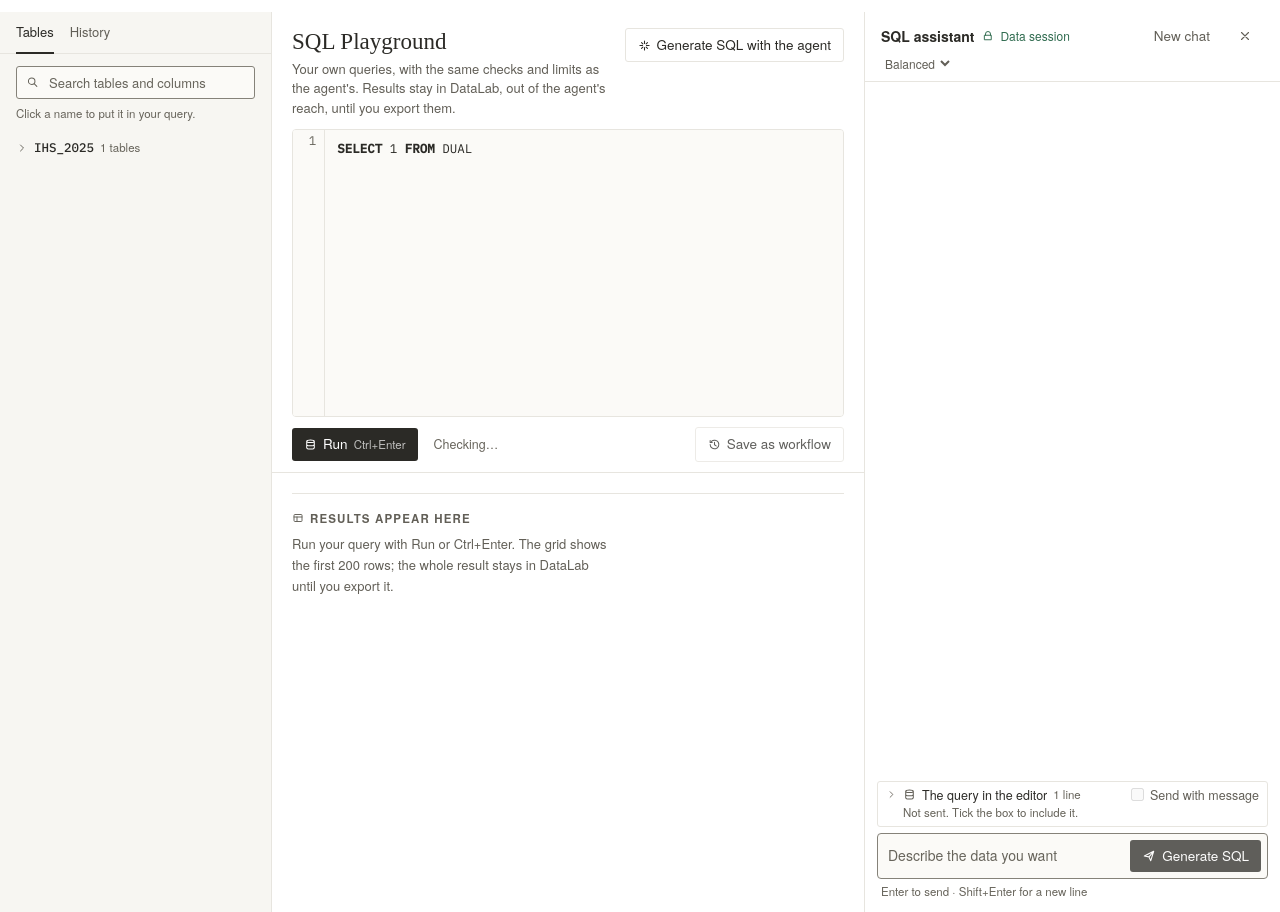
Test case: stops a running query
The image size is (1280, 912).
Click the button "Run Ctrl+Enter": (355, 444) [292,428,418,461]
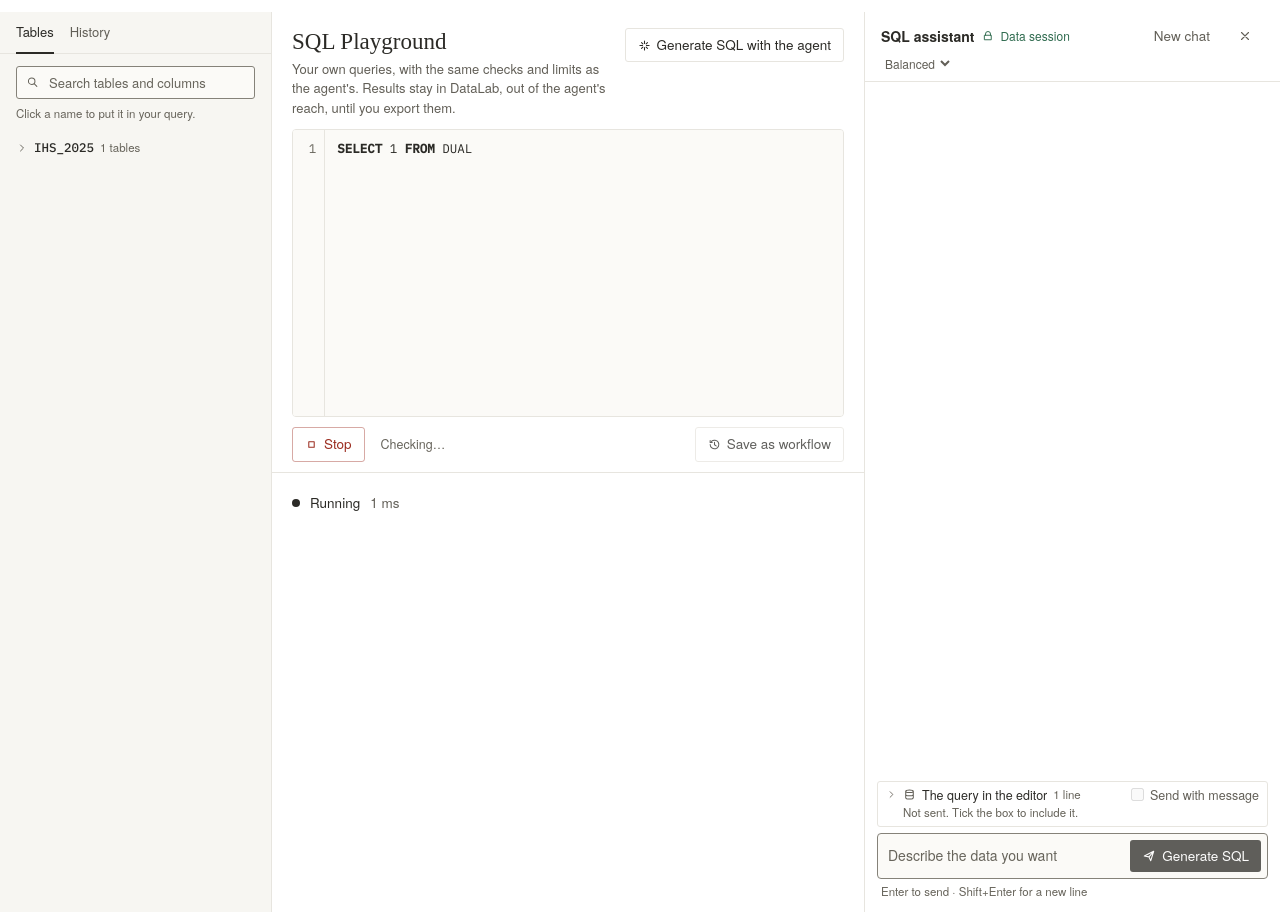
Click the button "Stop": (328, 444) [292,427,365,462]
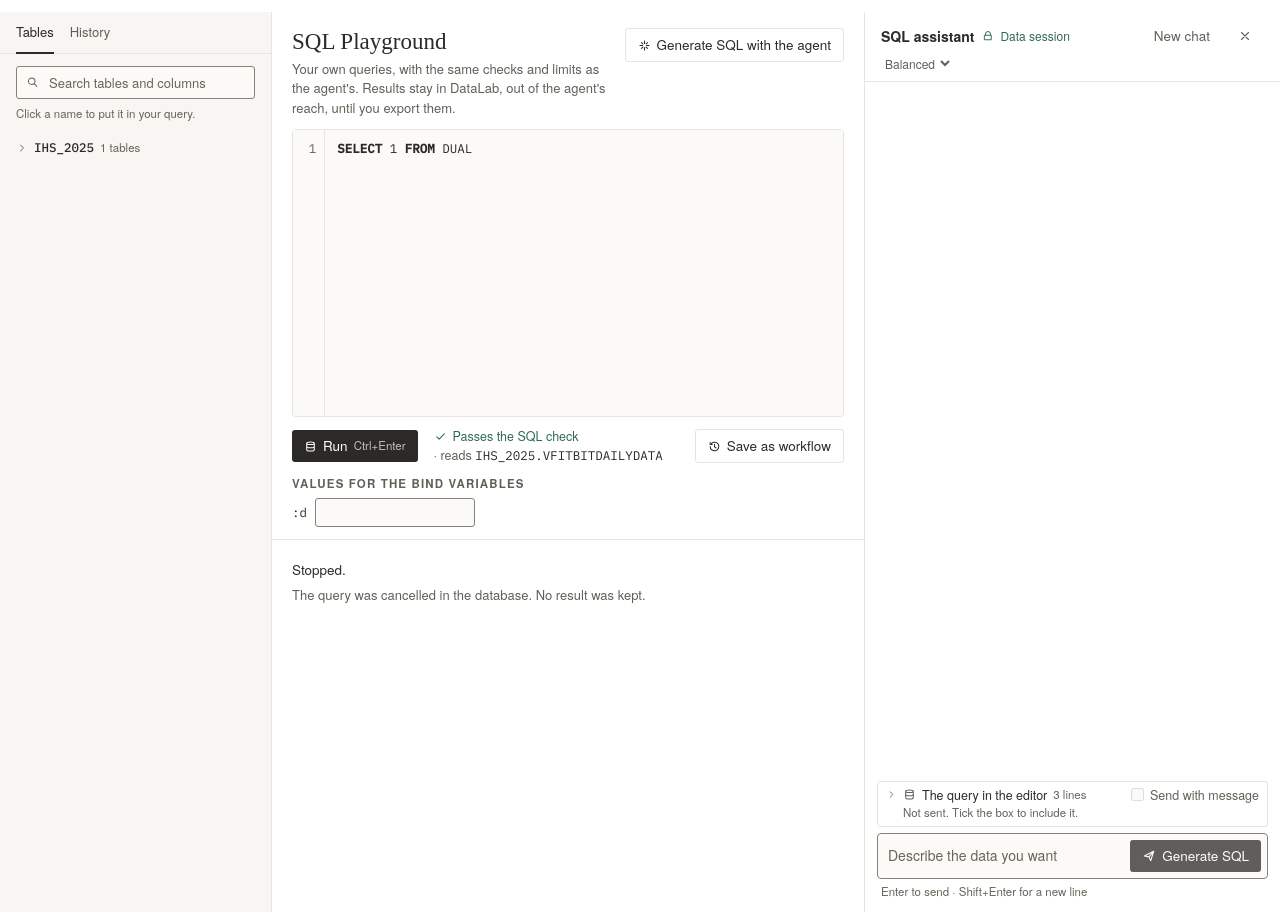
Expected: the text "Stopped." is shown, [292,560,346,579]
